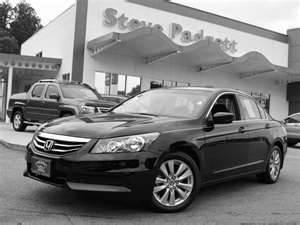car: (20, 89, 290, 212)
